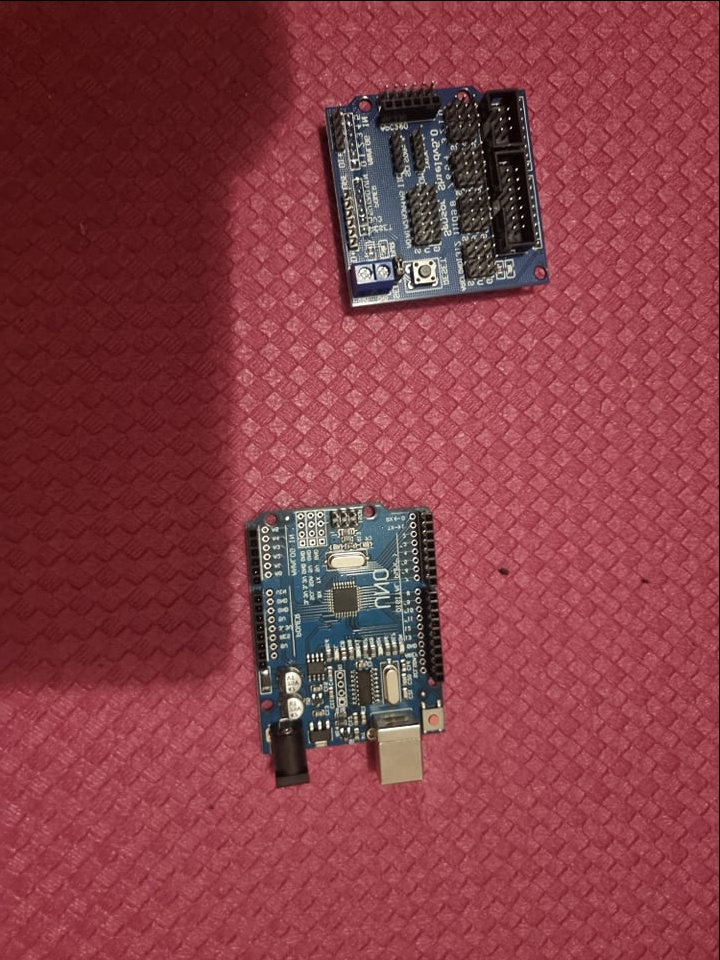5V EXPANSION: (311, 74, 550, 311)
UNO R3: (247, 501, 449, 792)
